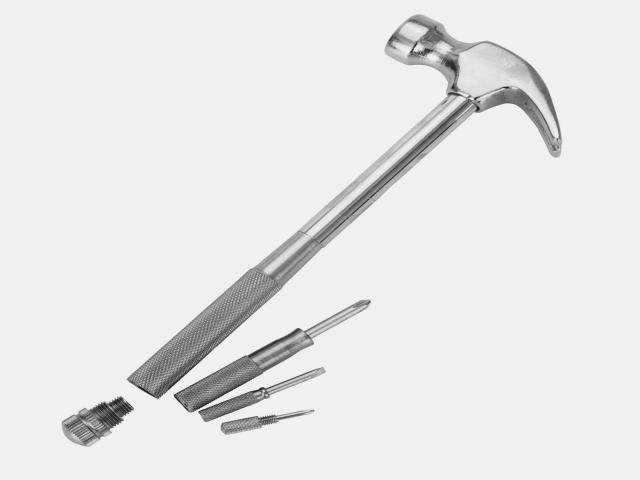Hammer: (128, 15, 561, 398)
Screwdriver: (175, 300, 370, 412), (199, 368, 325, 422), (221, 410, 314, 435)
